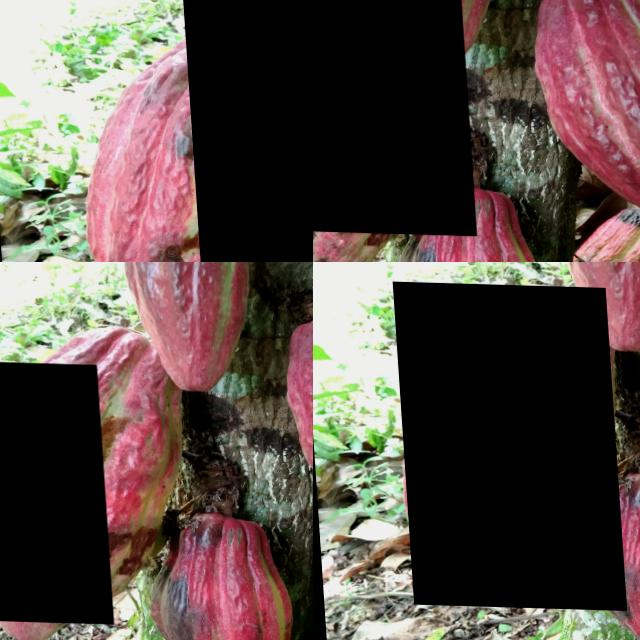Fitoftora: (390, 281, 620, 609), (180, 0, 313, 262), (251, 411, 313, 640), (569, 469, 640, 640)
Monilia: (0, 359, 107, 623)
Sana: (313, 0, 471, 234), (548, 262, 640, 351), (95, 333, 150, 438), (256, 266, 305, 342)
